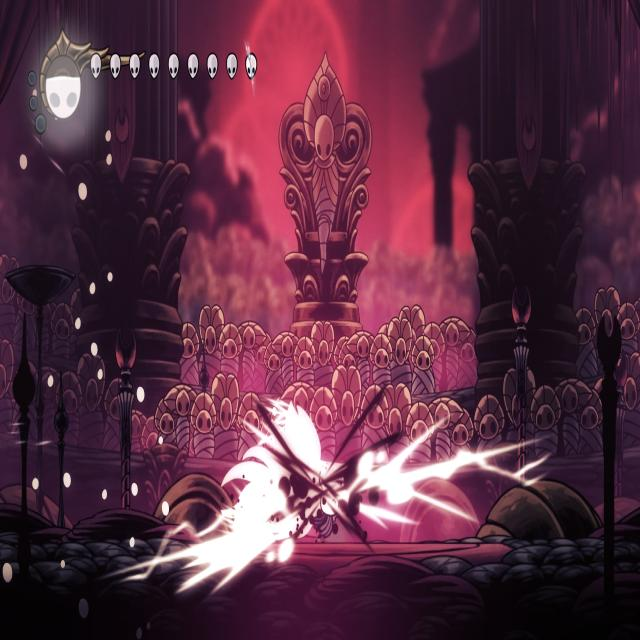Dive Dash: (218, 389, 387, 544)
Player: (310, 464, 343, 542)
